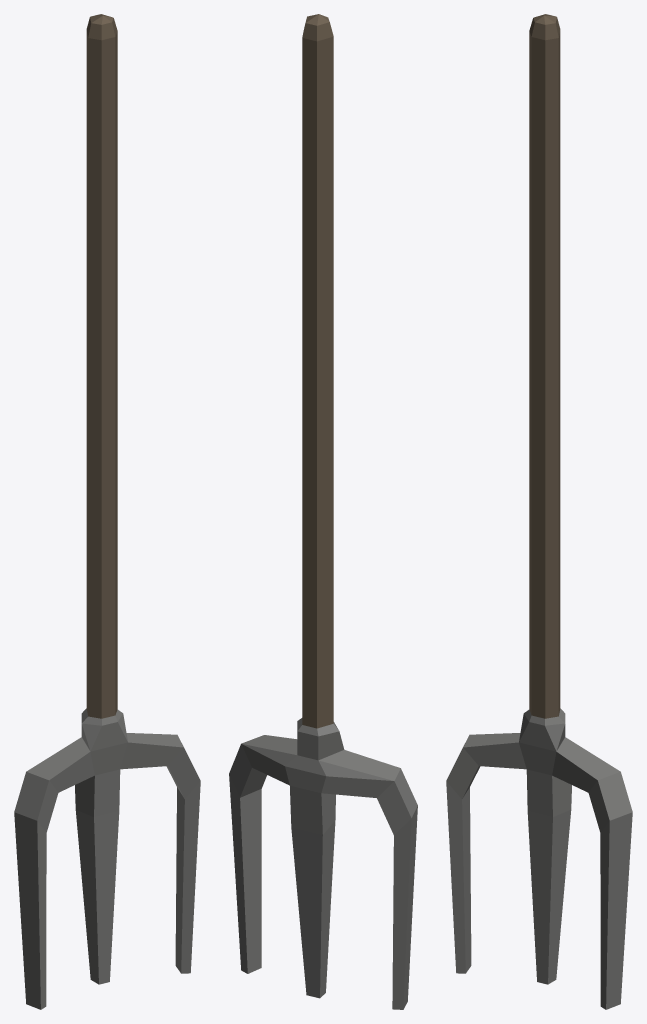
File: SM_Prop_Tool_Pitchfork_01.glb
3 renders of one model, left to right at view 1: azimuth 30°, elevation 25°; view 2: azimuth 150°, elevation 25°; view 3: azimuth 330°, elevation 25°, orthographic.
Visible parts, largest first — view 1: SM_Prop_Tool_Pitchfork_01; view 2: SM_Prop_Tool_Pitchfork_01; view 3: SM_Prop_Tool_Pitchfork_01.
Part boxes in pixels (<box>): SM_Prop_Tool_Pitchfork_01: <box>14,14,200,1009</box>; SM_Prop_Tool_Pitchfork_01: <box>229,14,417,1009</box>; SM_Prop_Tool_Pitchfork_01: <box>446,14,632,1009</box>.
Size of the model in its own units: 0.2943 by 1.51 by 0.0826.
Materials: 1 (1 with a texture image).
